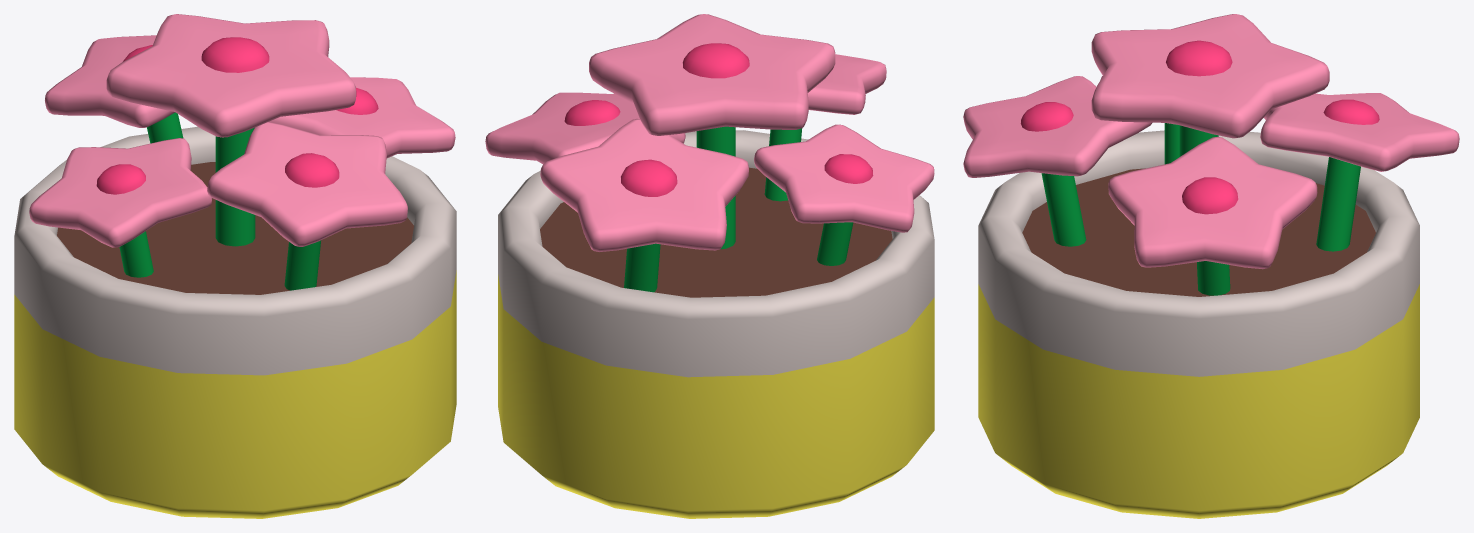
File: Farm_1_Plant_1.glb
3 views of the same model, side by side, from view 1: azimuth 30°, elevation 25°; view 2: azimuth 150°, elevation 25°; view 3: azimuth 270°, elevation 25° (orthographic).
Parts seen in each view (by area): view 1: Farm_1_Plant_1; view 2: Farm_1_Plant_1; view 3: Farm_1_Plant_1.
Boxes of the visible parts, x1,y1,x2,y2 form: Farm_1_Plant_1: [14, 14, 456, 518]; Farm_1_Plant_1: [485, 14, 934, 518]; Farm_1_Plant_1: [963, 14, 1459, 518].
Bounding box in the file's own units: 0.6905 × 0.6429 × 0.7472.
1 material, 1 textured.
